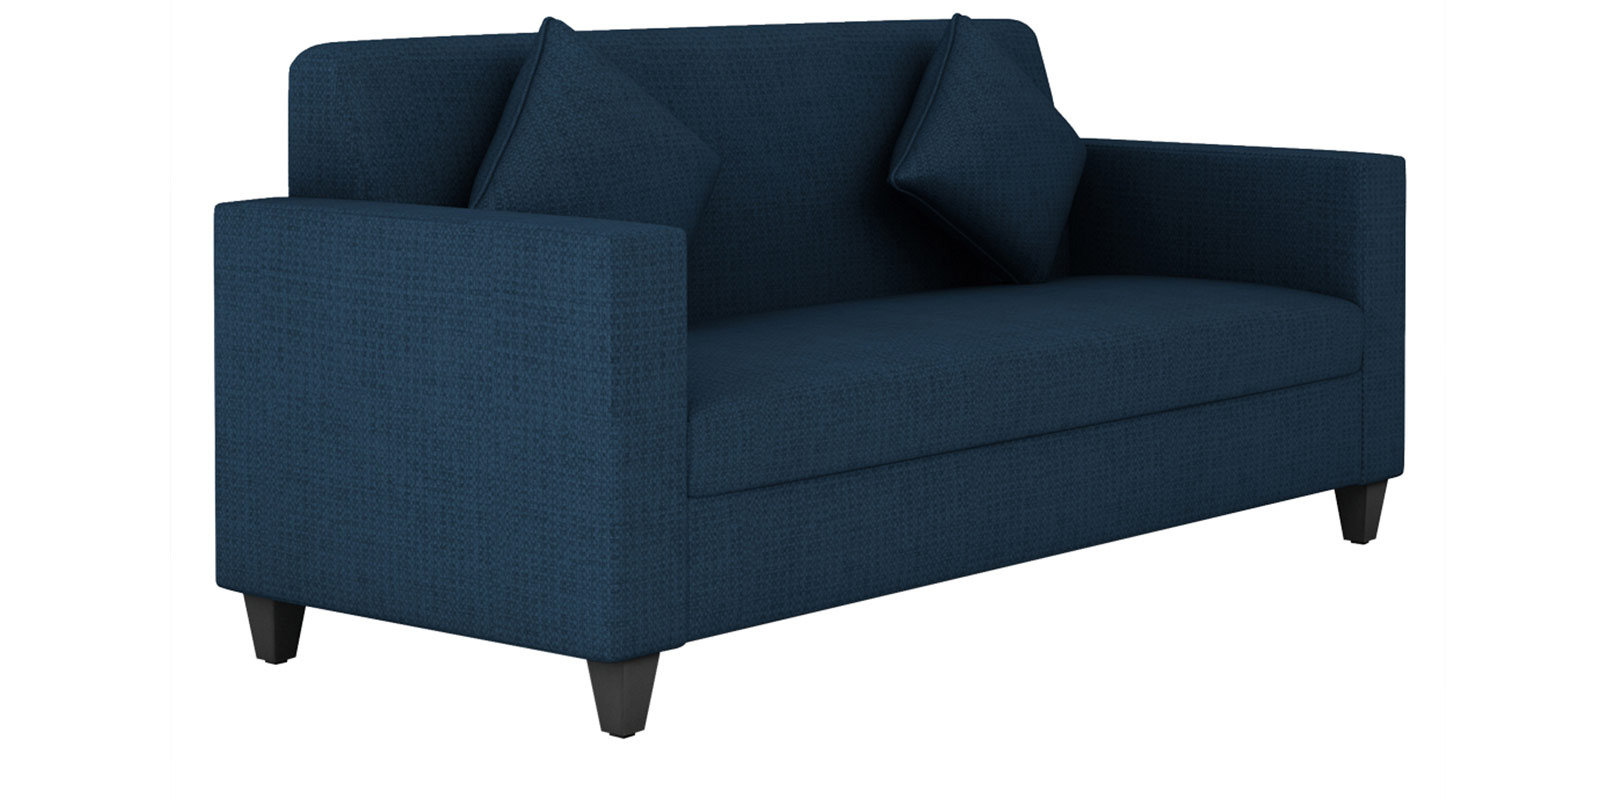Cooper Three Seater Sofa in Royal Blue Colour by ARRA: (187, 4, 1417, 672)
